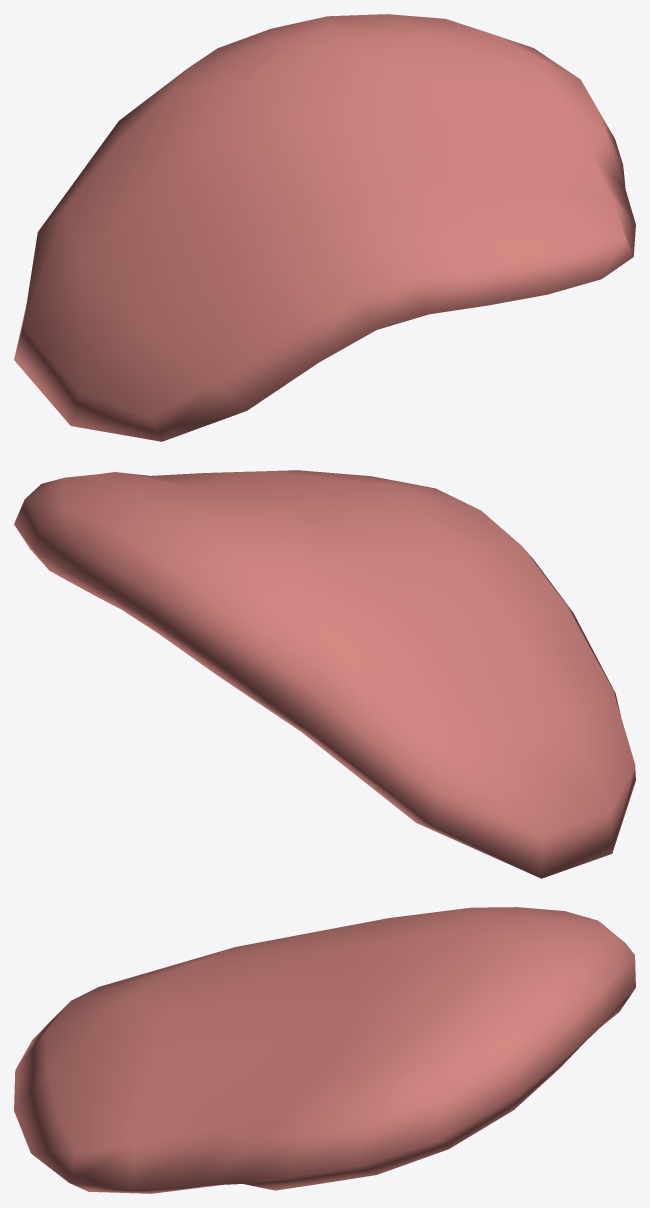
3 renders of one model, top to bottom at view 1: azimuth 30°, elevation 25°; view 2: azimuth 150°, elevation 25°; view 3: azimuth 270°, elevation 25°, orthographic. The views are drawn at different scales.
Visible parts, largest first — view 1: ZA_864dee389f4dff4a; view 2: ZA_864dee389f4dff4a; view 3: ZA_864dee389f4dff4a.
Boxes of the visible parts, x1,y1,x2,y2 form: ZA_864dee389f4dff4a: [14, 14, 635, 441]; ZA_864dee389f4dff4a: [14, 470, 635, 878]; ZA_864dee389f4dff4a: [14, 907, 635, 1193].
Size of the model in its own units: 0.0042 by 0.00205 by 0.0034.
